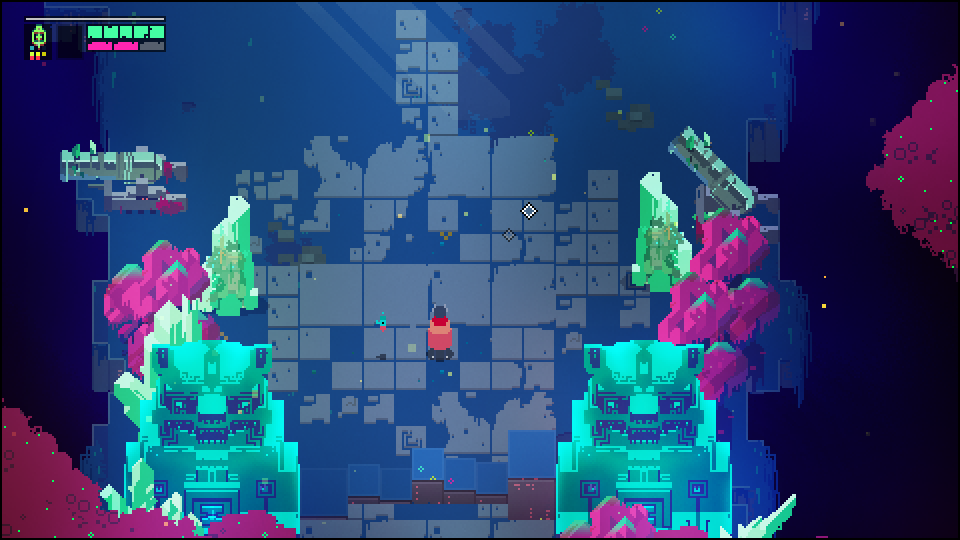player: (424, 305, 455, 357)
